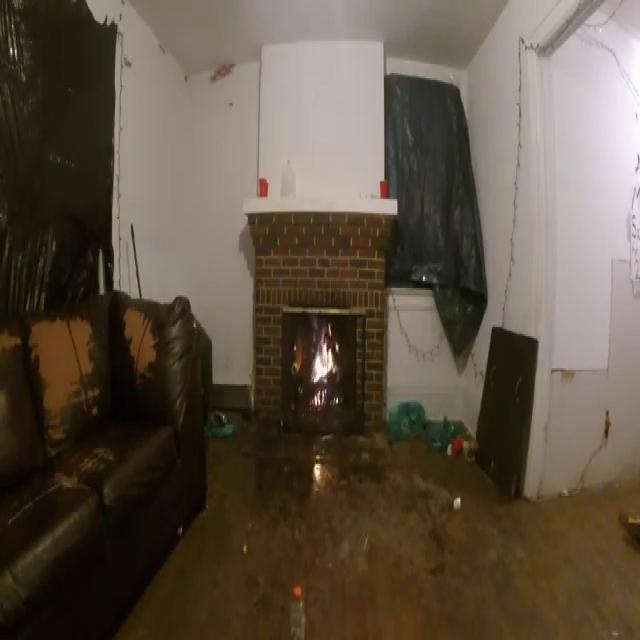fire: (302, 314, 340, 414)
